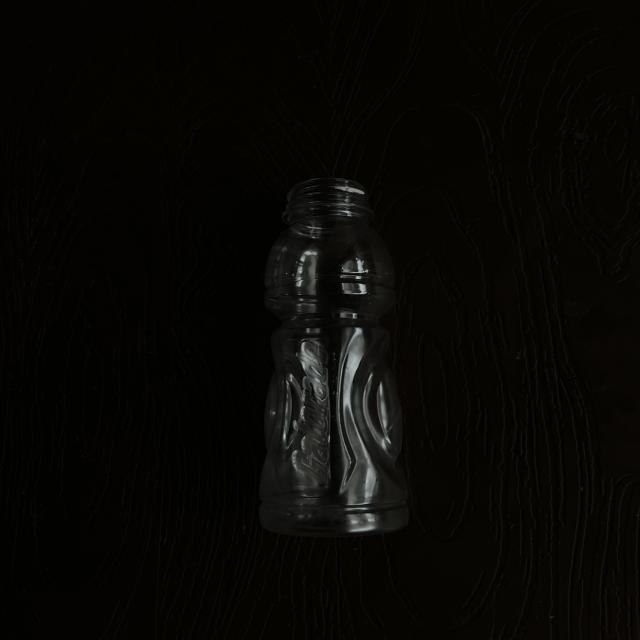PET_ClearBottle: (243, 172, 436, 574)
